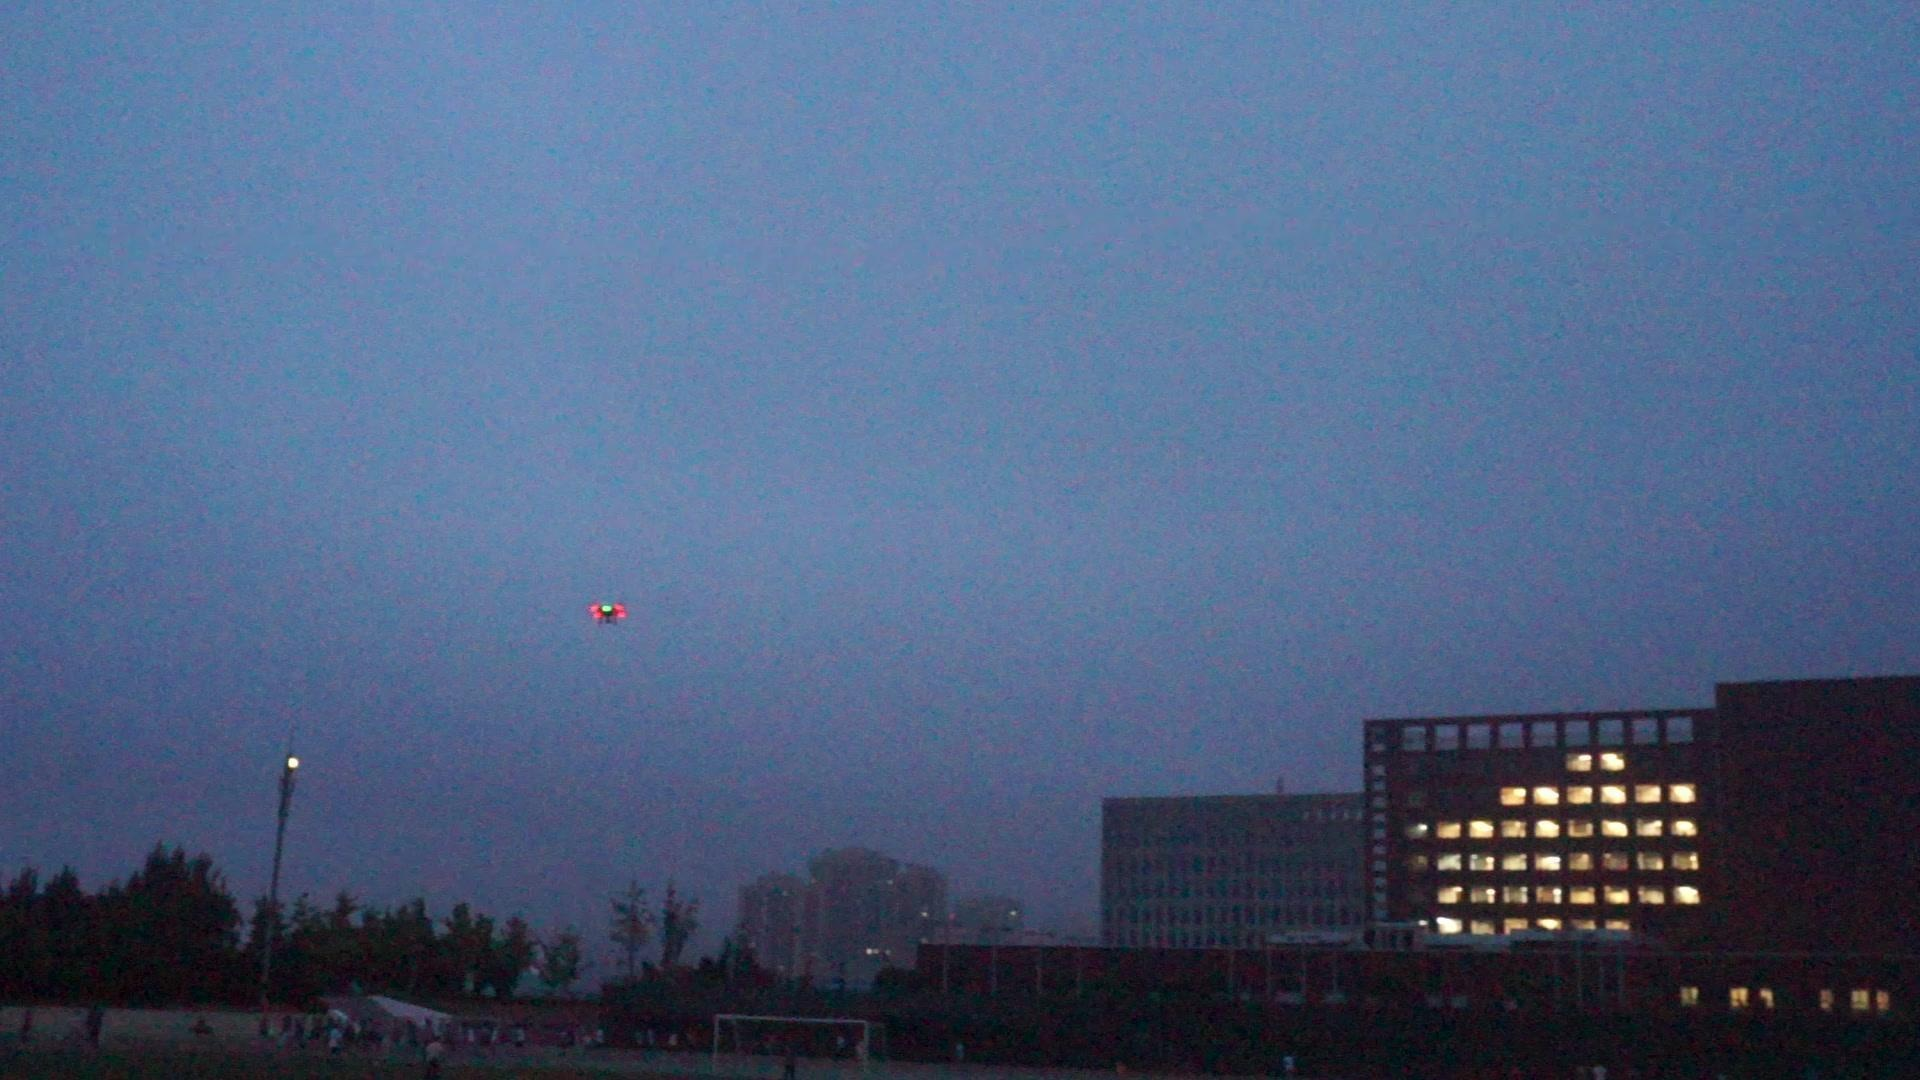UAV: (587, 603, 630, 628)
